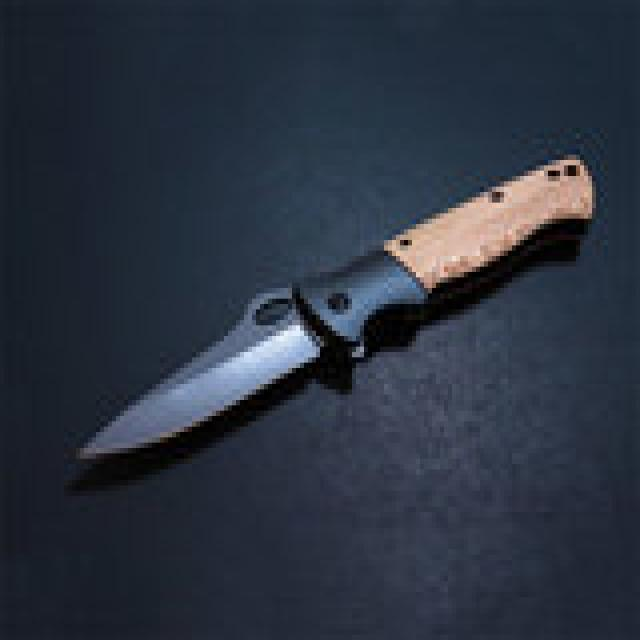Knife: (61, 144, 599, 482)
